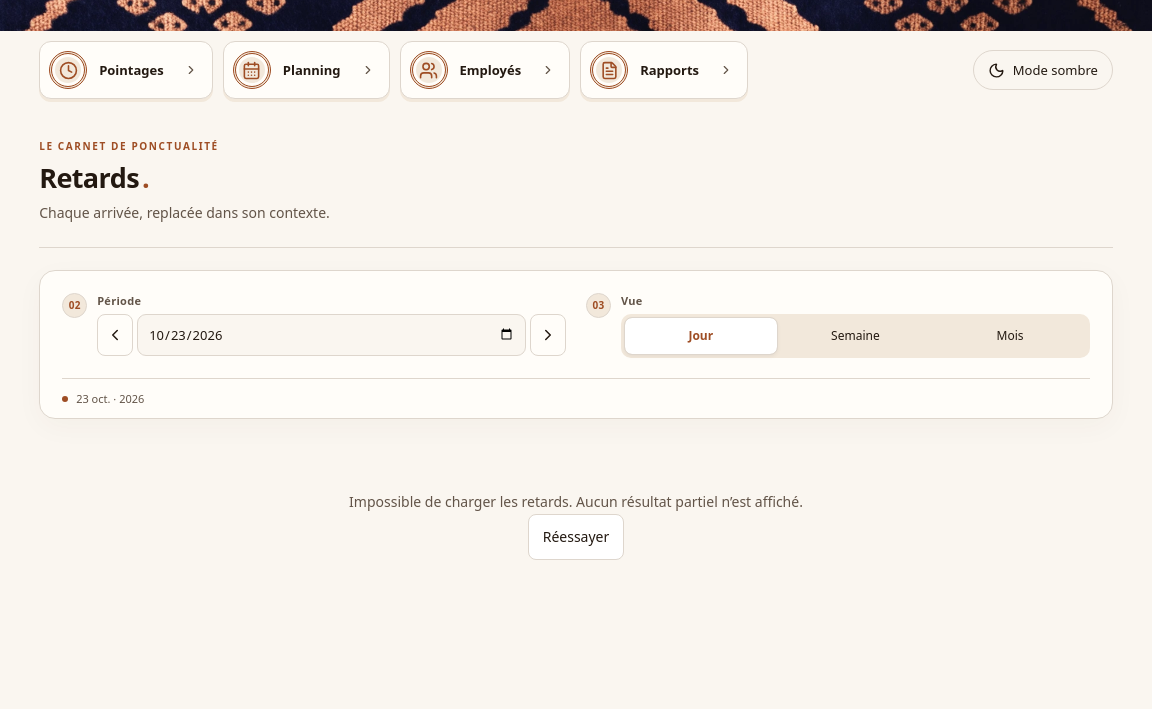
it: shows an error instead of stale or zero metrics and supports retry
Expected: the message is shown, x1=349 y1=492 x2=803 y2=560
Click the button "Réessayer" at coordinates (576, 537), box x1=528 y1=514 x2=624 y2=560
(page scrolled)
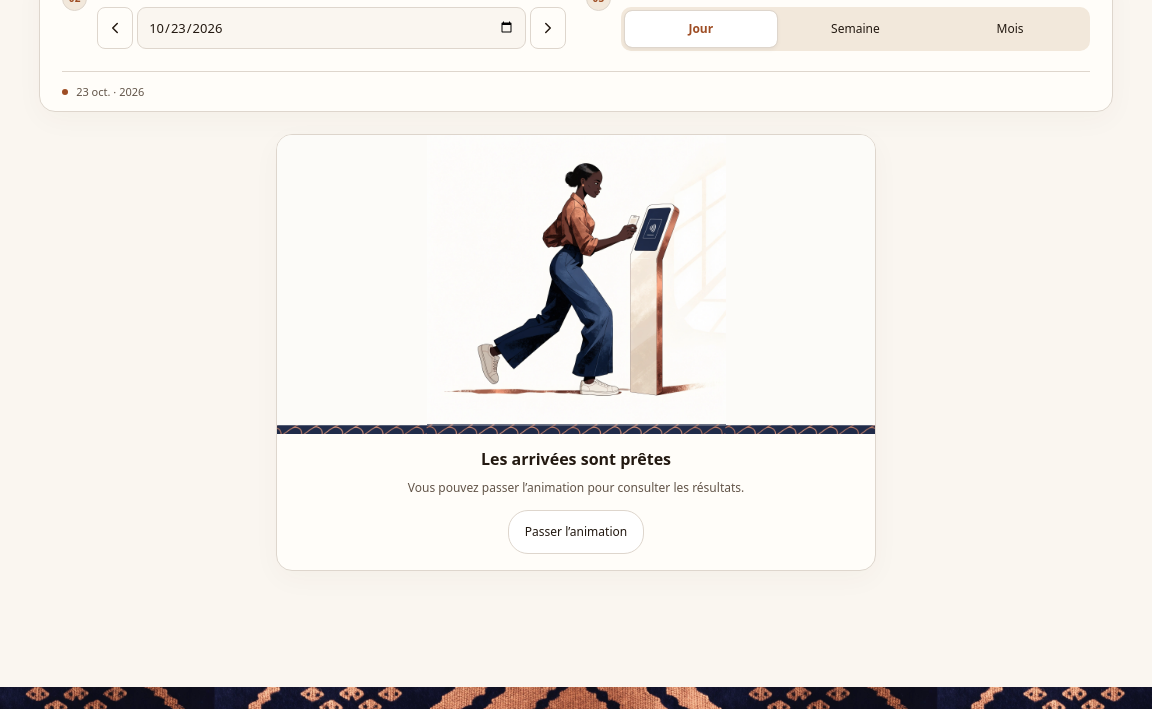
Click the button with class "rt-arrival-skip" at coordinates (576, 532), box x1=508 y1=510 x2=644 y2=554
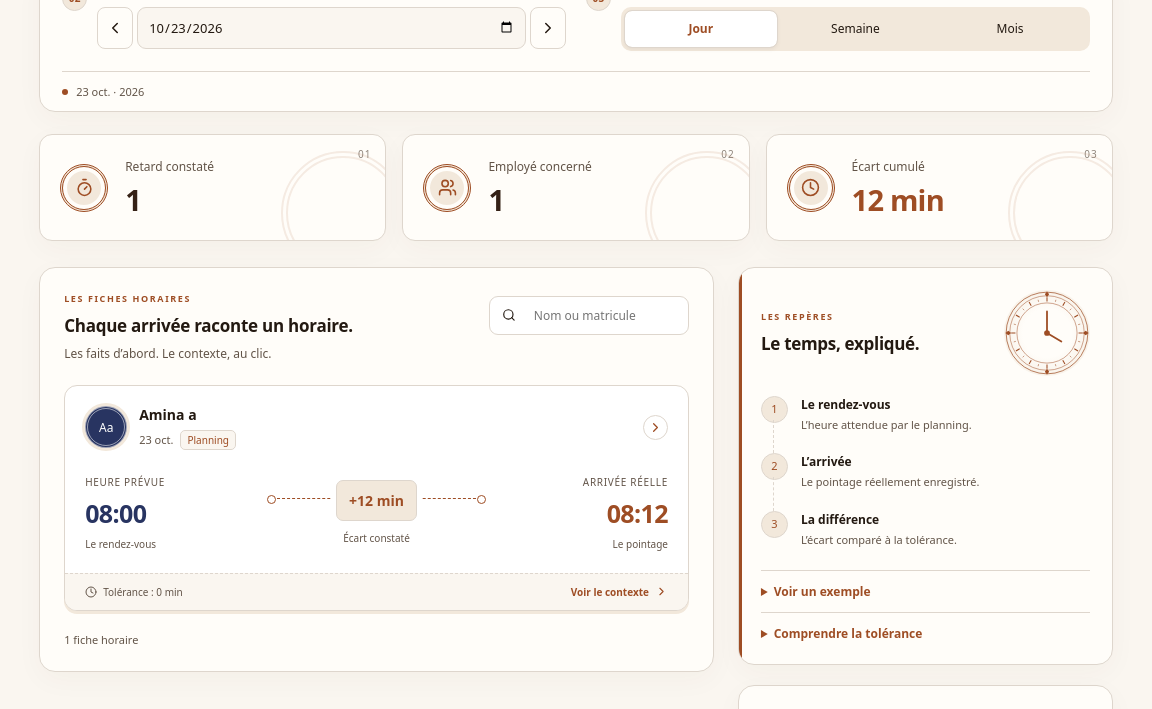
Now the element with class "rt-summary" is shown, box x1=39 y1=134 x2=1113 y2=241
